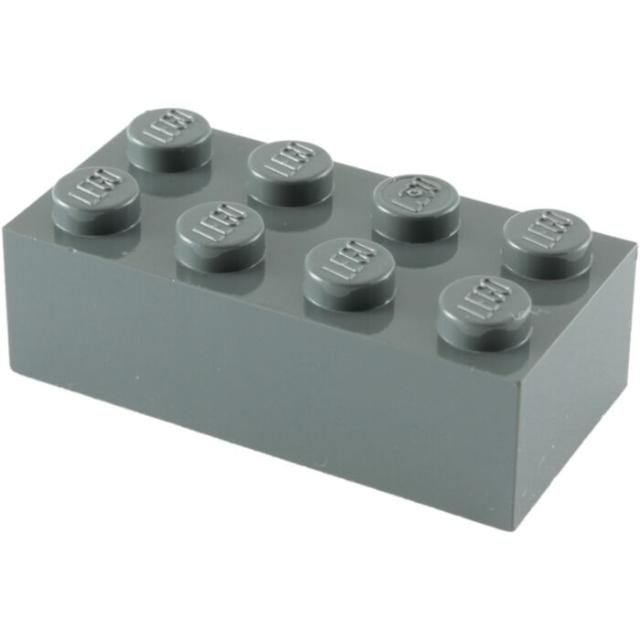2x4: (4, 107, 635, 529)
